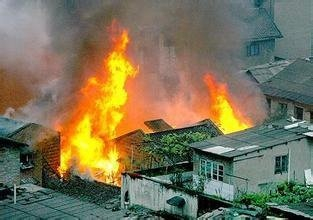fire: (55, 18, 140, 185), (200, 76, 253, 134)
